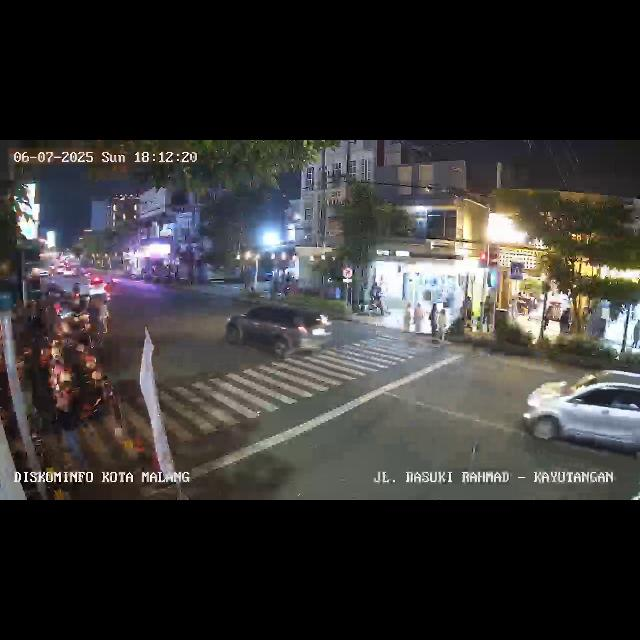car: (521, 371, 639, 465), (225, 303, 332, 362)
person: (438, 301, 450, 339), (98, 300, 110, 336), (558, 306, 570, 338), (428, 302, 437, 338), (413, 302, 423, 334), (402, 302, 412, 334), (632, 318, 640, 349)
